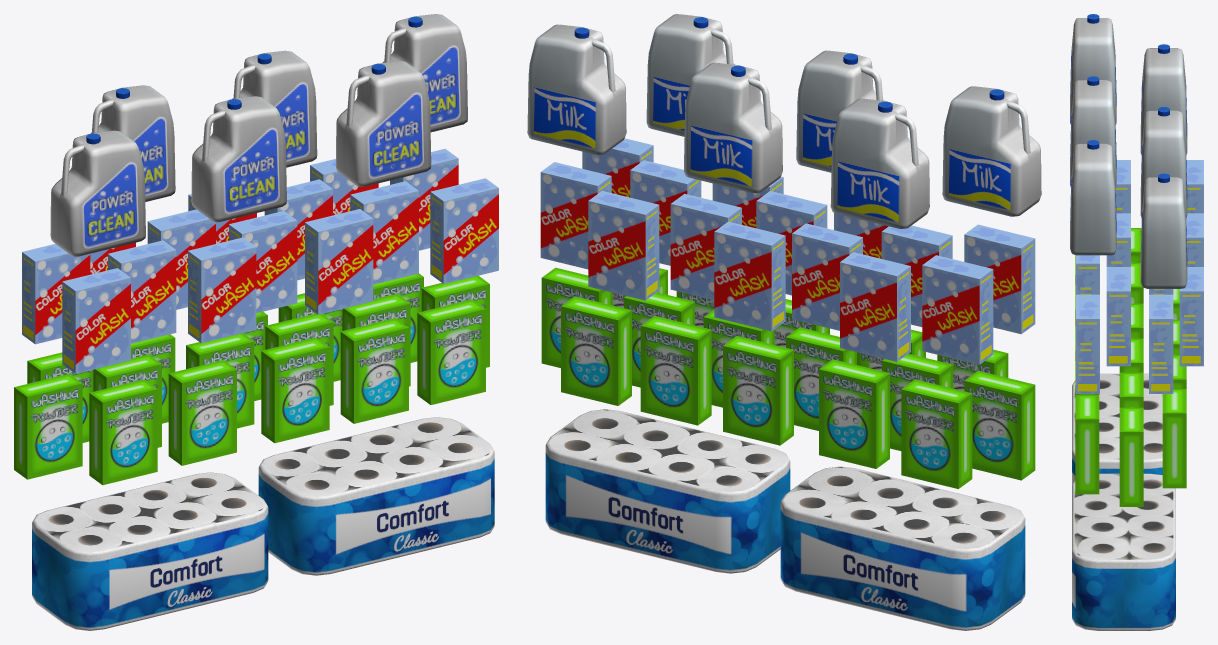
Rendered from CommFoodStuff01_2.FBX.
3 renders of one model, left to right at view 1: azimuth 30°, elevation 25°; view 2: azimuth 150°, elevation 25°; view 3: azimuth 270°, elevation 25°, orthographic. The views are drawn at different scales.
Visible parts, largest first — view 1: CommFoodStuff01_2; view 2: CommFoodStuff01_2; view 3: CommFoodStuff01_2.
Boxes of the visible parts, x1,y1,x2,y2 form: CommFoodStuff01_2: [14, 14, 498, 630]; CommFoodStuff01_2: [527, 14, 1041, 630]; CommFoodStuff01_2: [1070, 14, 1203, 630].
Size of what is drawn, in the model's own units: 1.85 by 1.86 by 0.5134.
